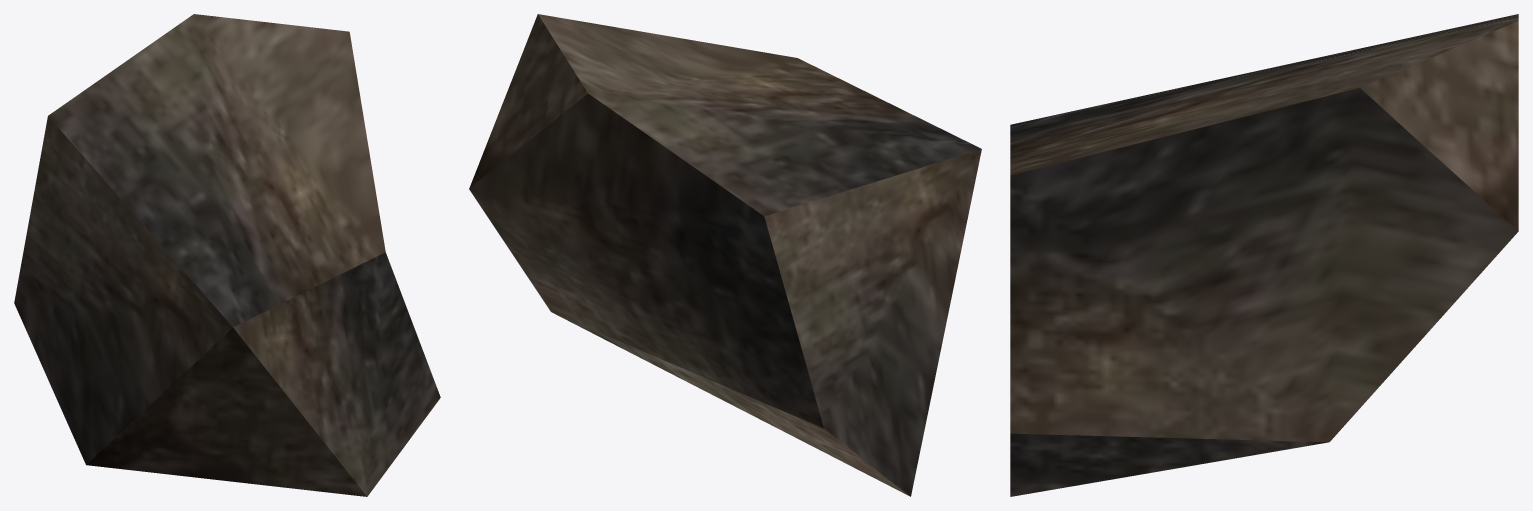
The picture shows the model from 3 angles, left to right: view 1: azimuth 30°, elevation 25°; view 2: azimuth 150°, elevation 25°; view 3: azimuth 270°, elevation 25°; orthographic projection. The views are drawn at different scales.
Visible parts, largest first — view 1: model_Object159; view 2: model_Object159; view 3: model_Object159.
Boxes of the visible parts, x1,y1,x2,y2 form: model_Object159: (14, 14, 440, 496); model_Object159: (469, 14, 981, 496); model_Object159: (1010, 14, 1518, 496).
Bounding box in the file's own units: 0.322 × 0.3729 × 0.3559.
Materials: 1 (1 with a texture image).
